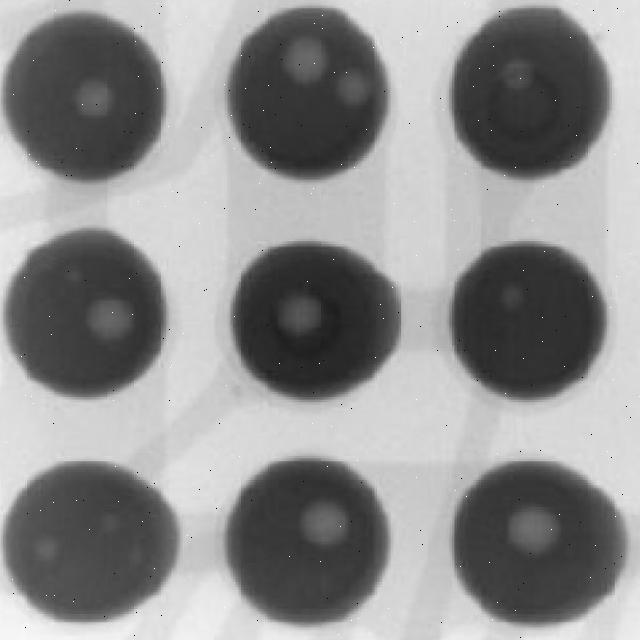Chip: (3, 462, 178, 621), (453, 462, 624, 623), (230, 8, 388, 176), (228, 459, 388, 622), (4, 15, 163, 178), (5, 232, 163, 396), (452, 8, 607, 175), (233, 244, 398, 399), (452, 243, 606, 398)
void: (508, 507, 559, 554), (300, 500, 348, 545), (283, 37, 327, 85), (87, 299, 133, 340), (278, 295, 321, 336), (76, 78, 113, 117), (337, 69, 370, 105), (502, 58, 533, 89), (502, 283, 523, 311), (33, 537, 57, 560), (100, 512, 122, 533)
